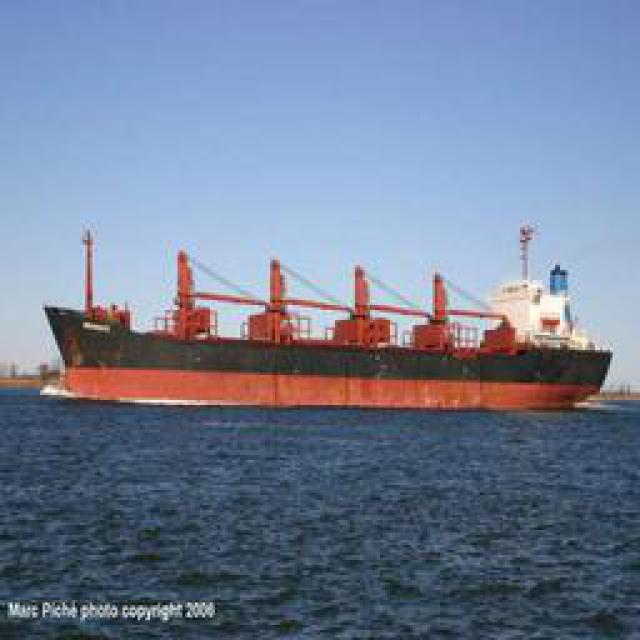Ship: (44, 222, 624, 415)
